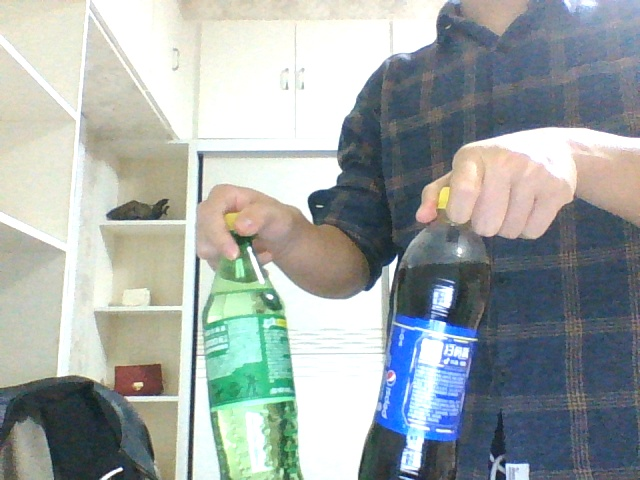Cola: (356, 184, 492, 477)
Sprite: (185, 211, 306, 479)
